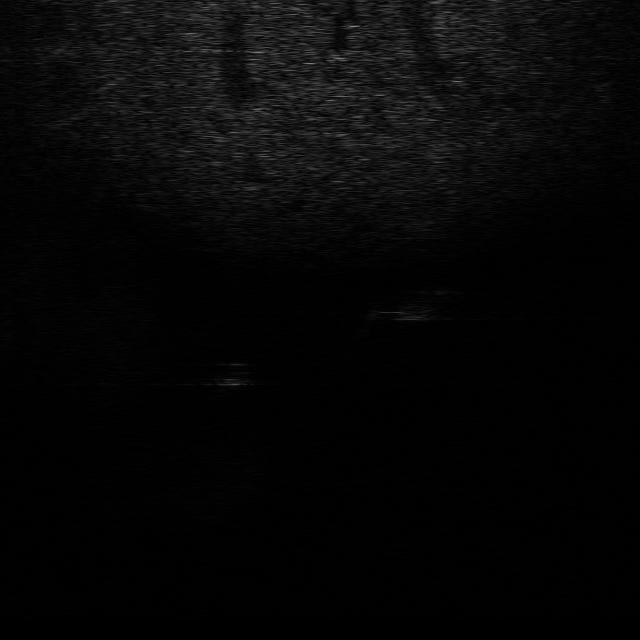ball: (205, 359, 260, 392)
human body: (357, 282, 465, 336)
